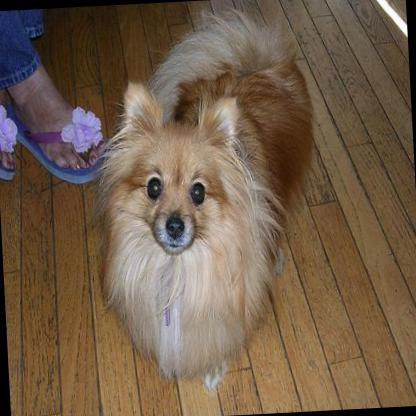Pomeranian: (84, 2, 328, 396)
